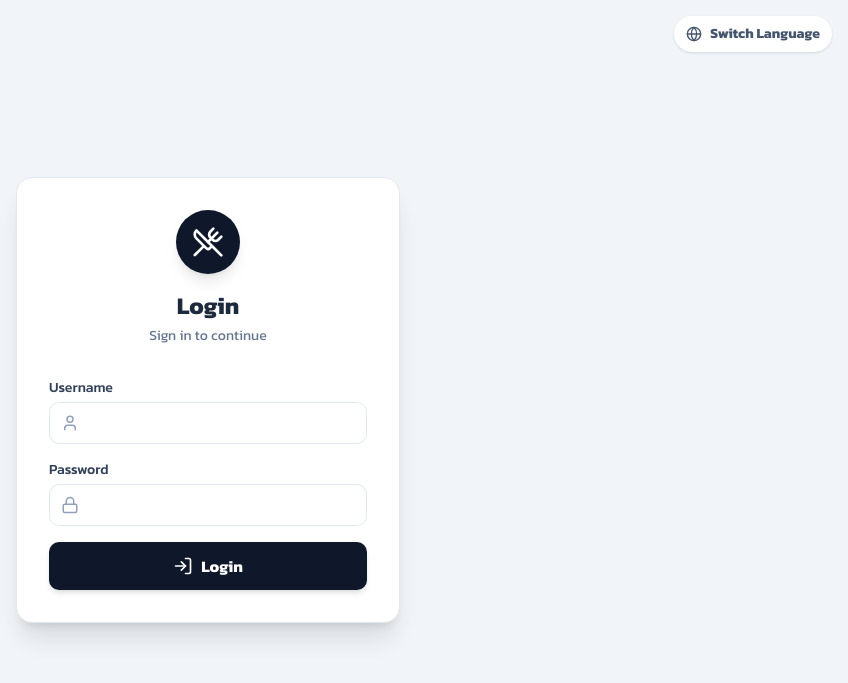
LoginForm › Login Failure - Error Handling › should display generic error on exception
Type "user" into the field labelled "Username" at {"x": 208, "y": 423}, box [49,402,367,444]
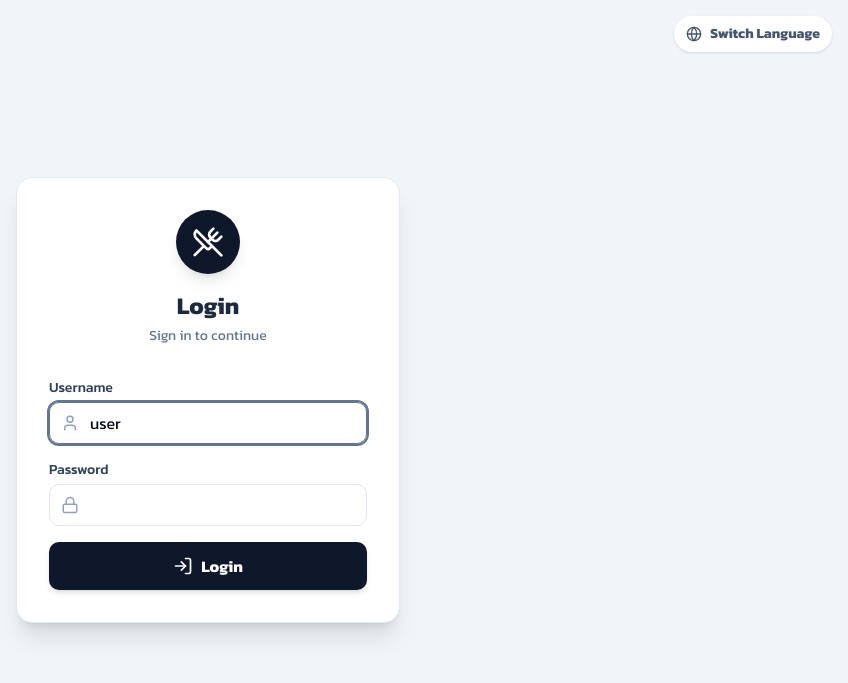
Type "pass" into the password field labelled "Password" at {"x": 208, "y": 505}, box [49,484,367,526]
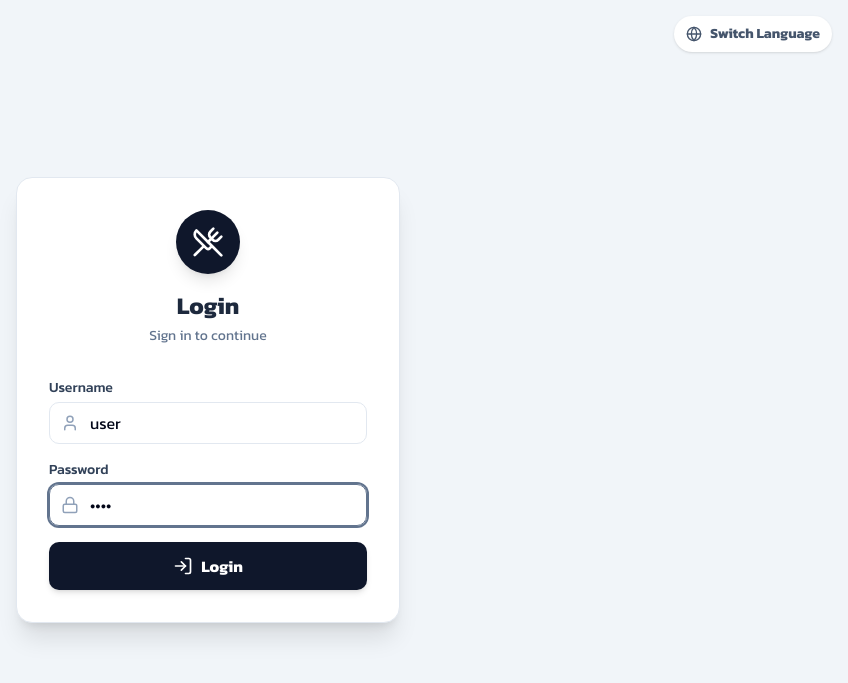
Click the button "Login" at {"x": 208, "y": 566}, box [49,542,367,590]
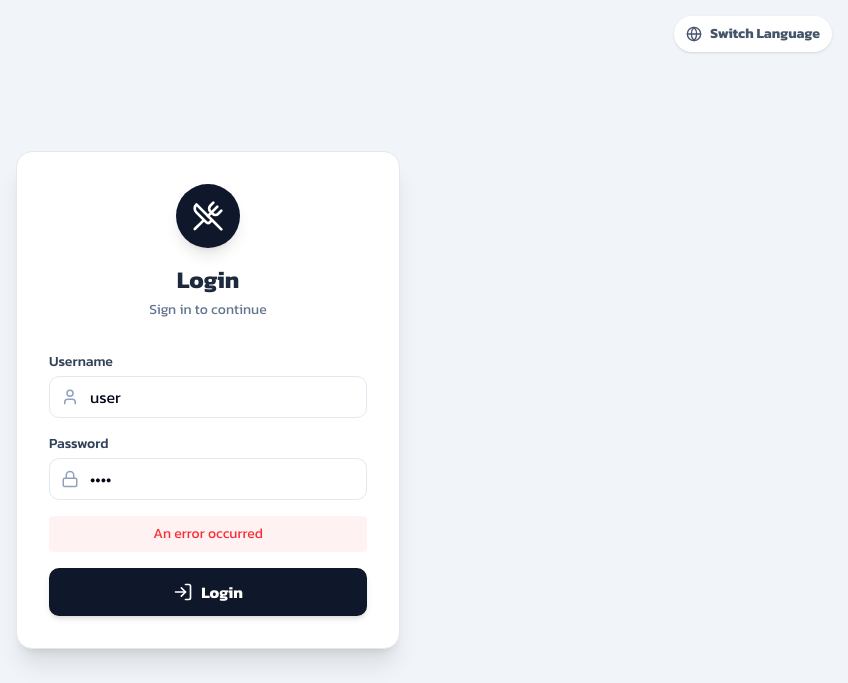
Expected: the text "An error occurred" is shown, [49,516,367,552]
